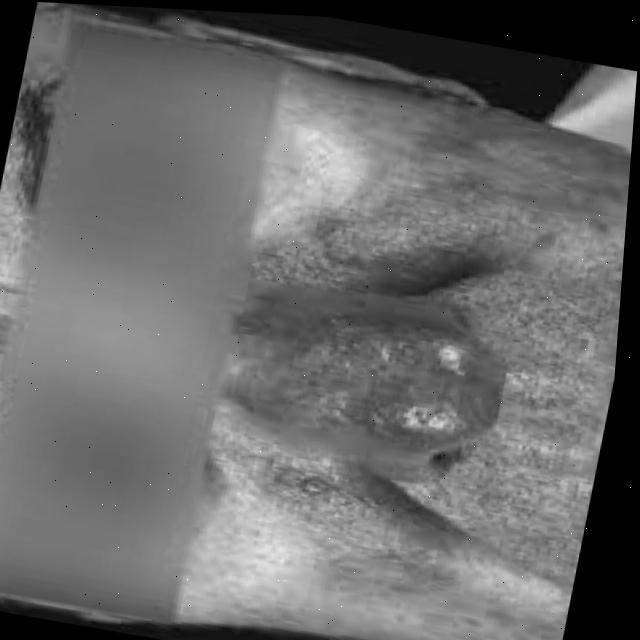Rosacea: (228, 67, 636, 353), (201, 283, 512, 491), (190, 423, 486, 624)
